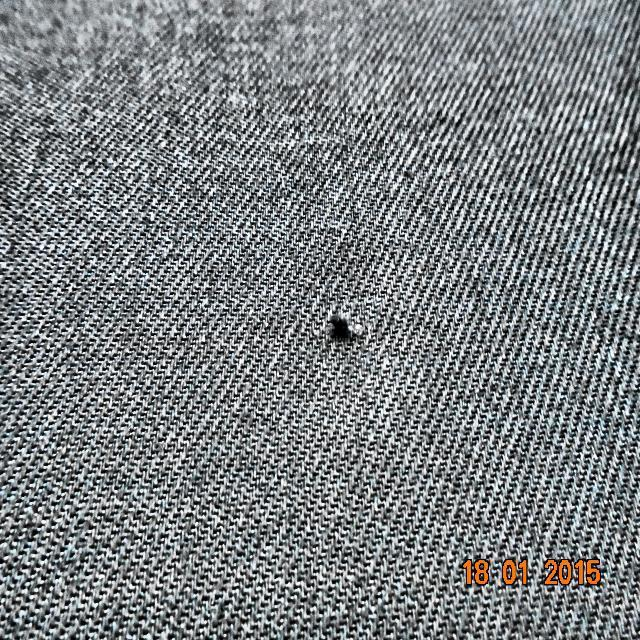cut: (310, 295, 388, 363)
